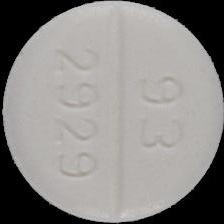0615-1536: (0, 0, 224, 224)
